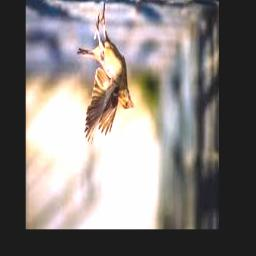Sparrow: (78, 0, 134, 146)
